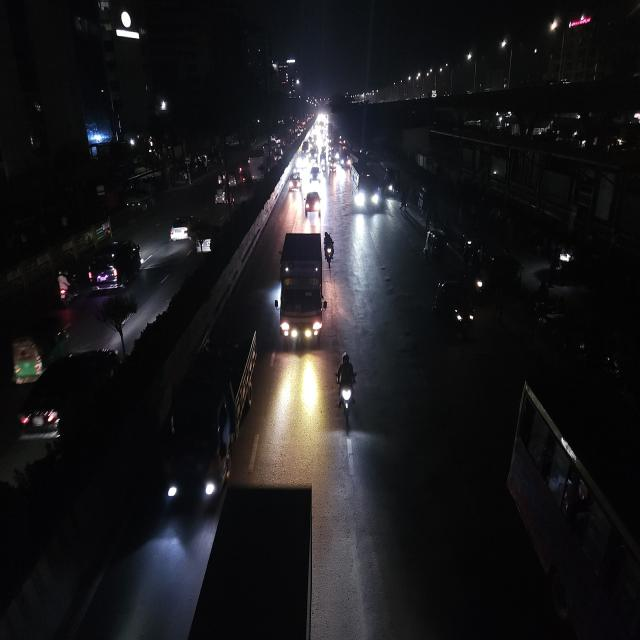bus: (506, 368, 640, 640), (348, 158, 384, 216)
car: (13, 344, 122, 452), (88, 237, 145, 294), (168, 211, 197, 244), (303, 188, 323, 218), (288, 170, 303, 196), (308, 164, 321, 187)
cng: (8, 314, 70, 383), (430, 277, 476, 342), (421, 225, 448, 266), (213, 181, 227, 207), (237, 161, 251, 187), (225, 184, 237, 209)
motorcycle: (334, 350, 360, 424), (54, 268, 80, 308), (322, 227, 336, 268)
pickup_van: (174, 321, 255, 509), (124, 184, 161, 215)
truck: (277, 226, 331, 352)
